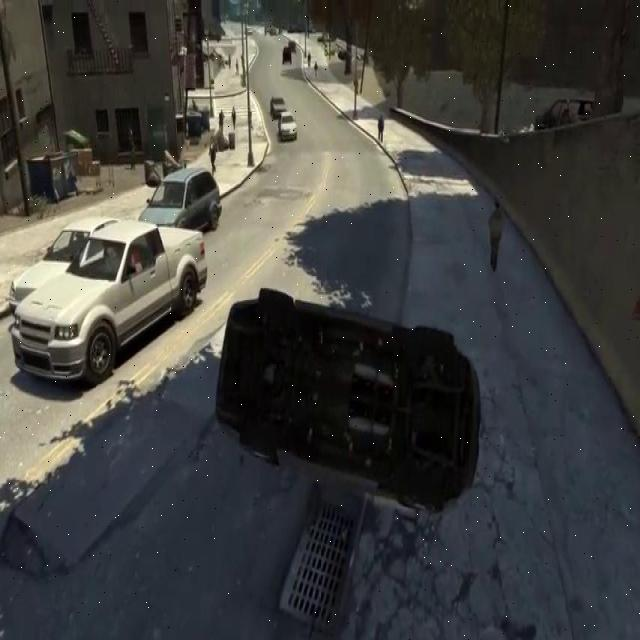severe: (211, 277, 482, 511)
